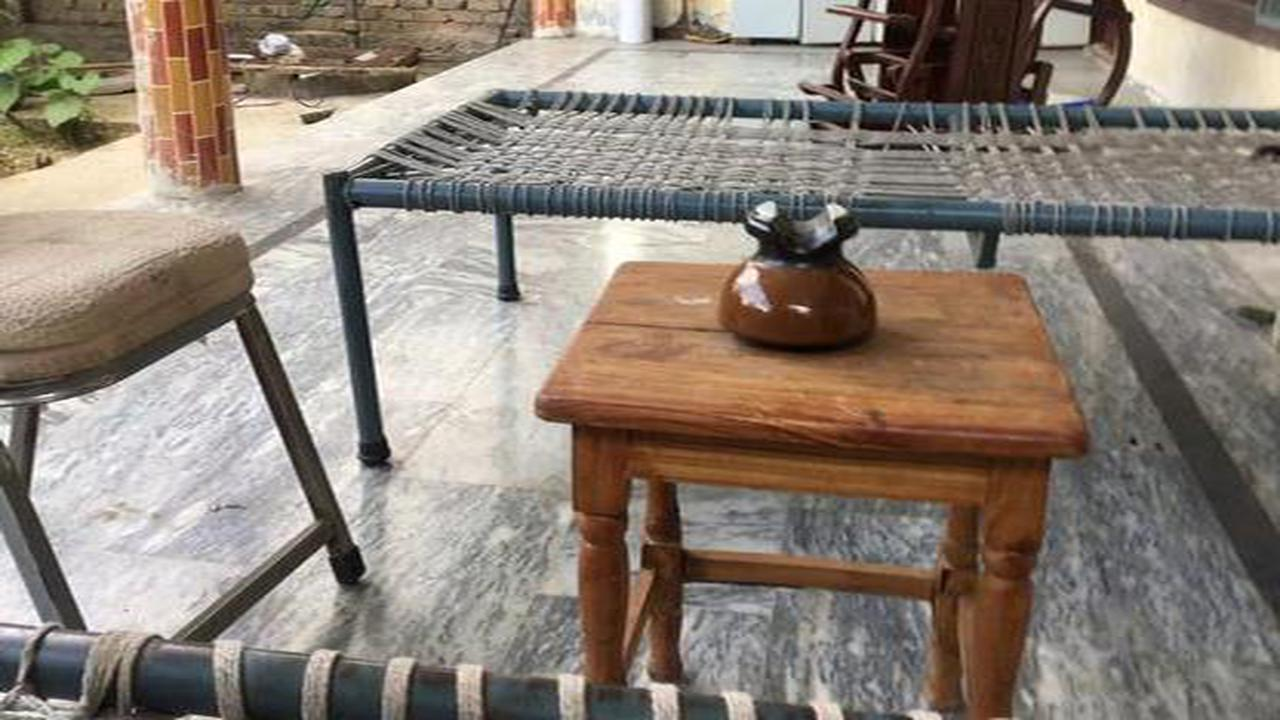insulator_pin: (699, 182, 896, 359)
